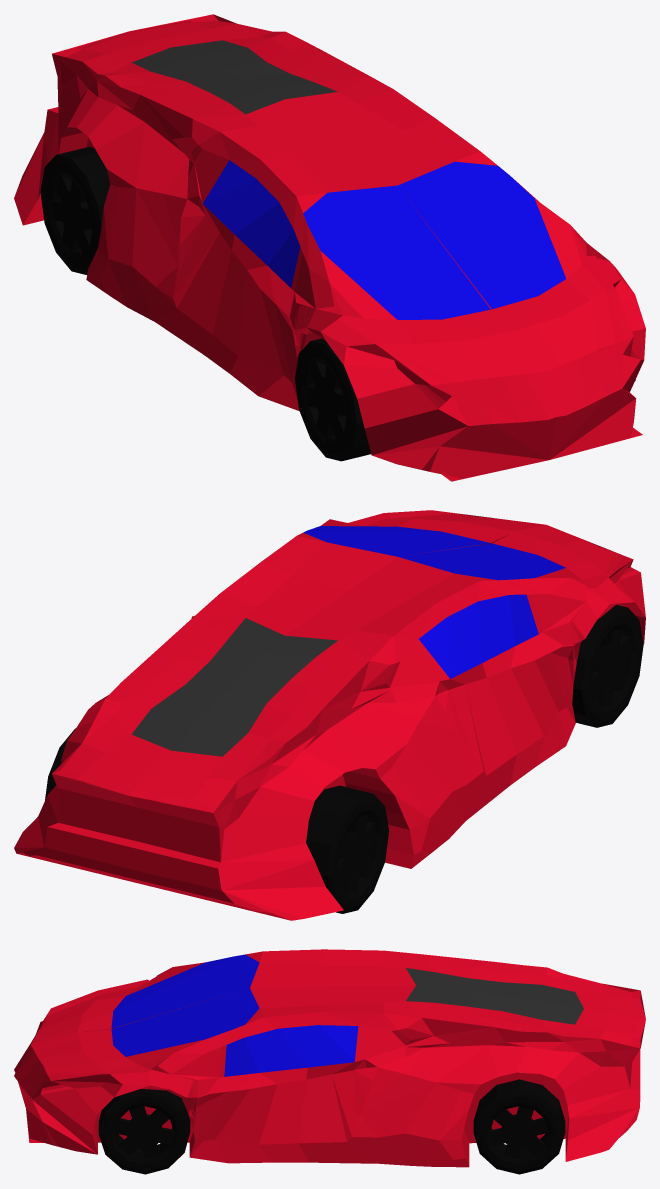
File: Aventador.glb
The picture shows the model from 3 angles, top to bottom: view 1: azimuth 30°, elevation 25°; view 2: azimuth 150°, elevation 25°; view 3: azimuth 270°, elevation 25°; orthographic projection. The views are drawn at different scales.
Parts seen in each view (by area): view 1: Car, Rear.001, Front.001; view 2: Car, Rear.001, Front.001; view 3: Car, Rear, Front.
Part boxes in pixels (x1,y1,x2,y2): Car: [14, 14, 645, 481]; Rear.001: [40, 146, 110, 274]; Front.001: [295, 338, 371, 461]; Car: [14, 510, 645, 920]; Rear.001: [306, 785, 389, 913]; Front.001: [572, 604, 643, 727]; Car: [14, 949, 645, 1167]; Rear: [473, 1079, 565, 1174]; Front: [98, 1089, 190, 1174].
Bounding box in the file's own units: 4.02 × 2.3 × 9.15.
